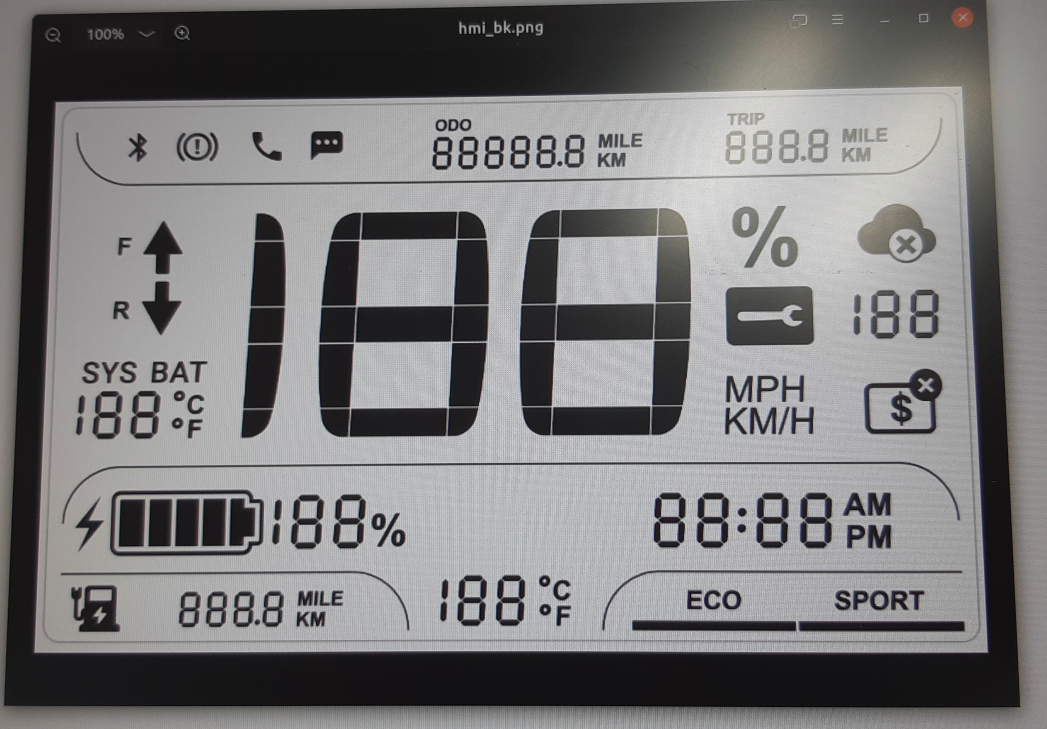bluetooth_on: (124, 128, 151, 165)
braking_on: (172, 127, 222, 166)
calling_on: (248, 127, 288, 166)
connection_lost: (852, 199, 941, 269)
error_code: (721, 282, 819, 350)
low_battery: (65, 580, 125, 636)
sms_on: (305, 128, 347, 165)
vin_id: (861, 365, 946, 438)
